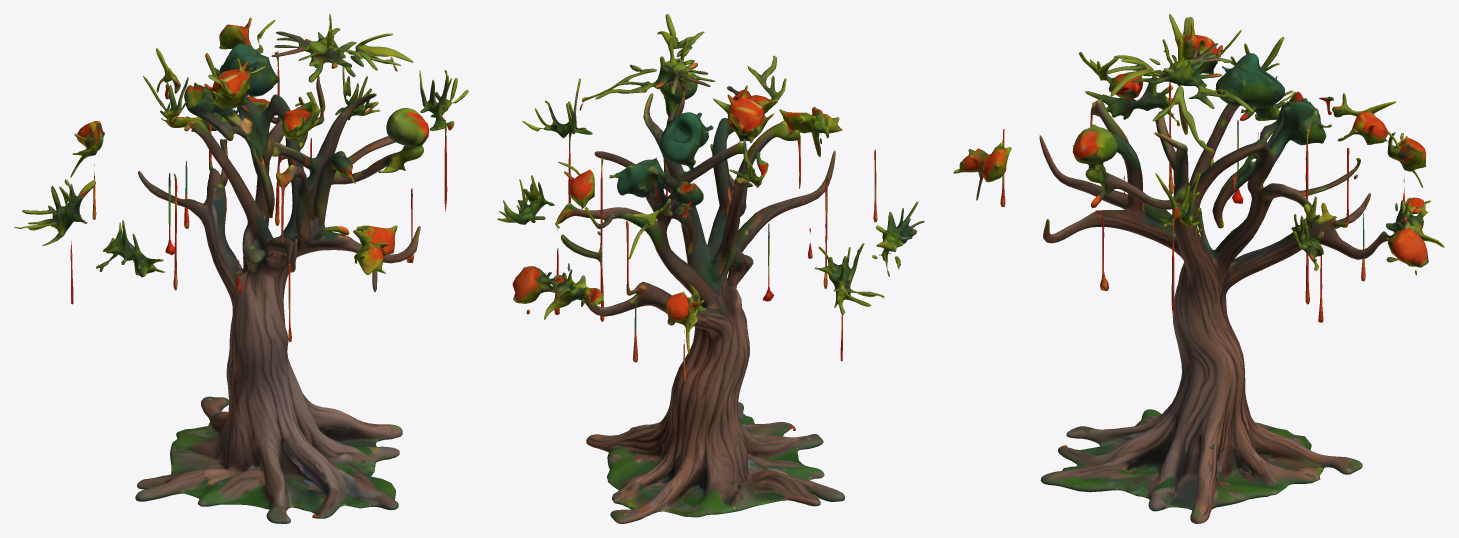
The model's file is Tree 1.fbx.
3 renders of one model, left to right at view 1: azimuth 30°, elevation 25°; view 2: azimuth 150°, elevation 25°; view 3: azimuth 270°, elevation 25°, orthographic. The views are drawn at different scales.
Parts seen in each view (by area): view 1: tripo_node_91adb1f1; view 2: tripo_node_91adb1f1; view 3: tripo_node_91adb1f1.
Boxes of the visible parts, <box> form: tripo_node_91adb1f1: <box>14,14,468,523</box>; tripo_node_91adb1f1: <box>497,14,924,523</box>; tripo_node_91adb1f1: <box>953,14,1444,523</box>.
Size of the model in its own units: 98.04 by 99.5 by 98.79.
Materials: 1 (1 with a texture image).
